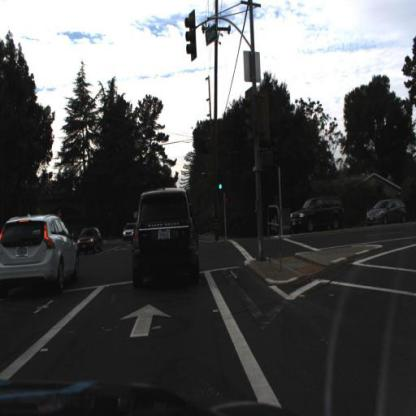car: (129, 185, 201, 287), (1, 214, 82, 296), (289, 196, 347, 234), (365, 197, 407, 228), (77, 227, 104, 254), (122, 221, 139, 244)
trafficLight-Green: (217, 169, 226, 194)
